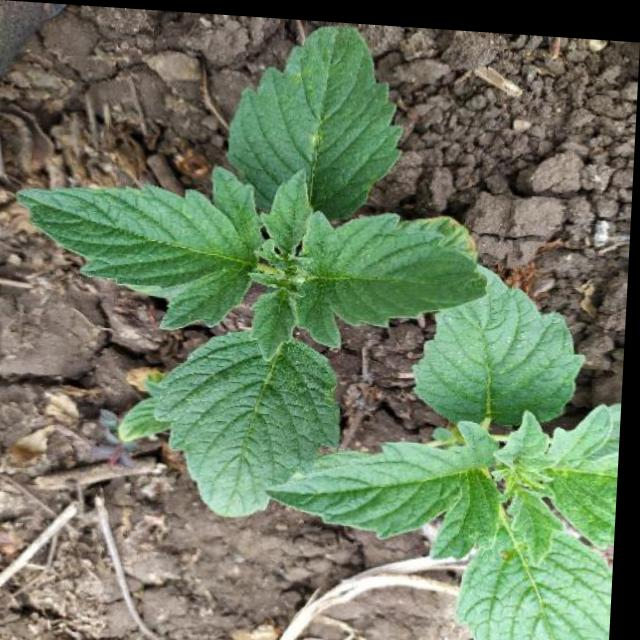crop: (1, 11, 496, 525), (271, 278, 626, 640)
